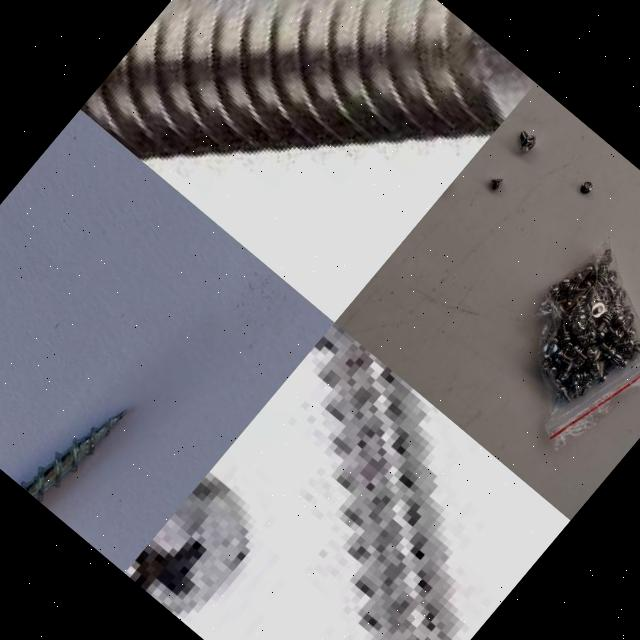Screw: (79, 0, 535, 163), (311, 322, 459, 640), (124, 475, 254, 612), (20, 409, 127, 500), (509, 124, 541, 158), (484, 171, 506, 193), (576, 176, 597, 198)
